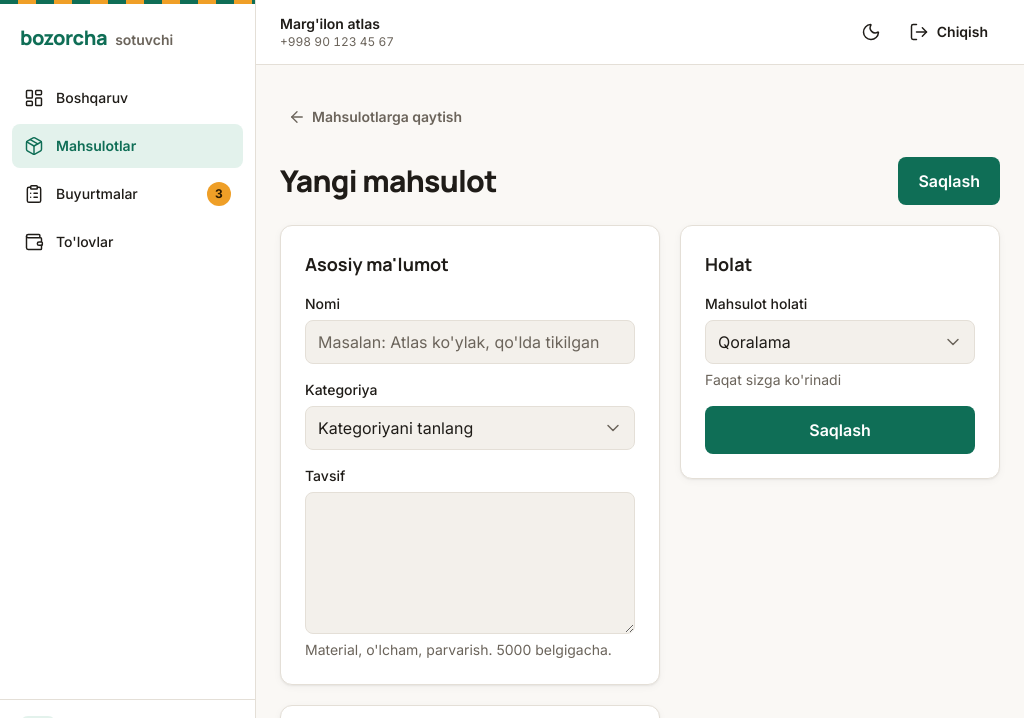
Test: ProductEditorPage: validation › shows field errors and sends nothing while the form is invalid
Expected: the heading "Yangi mahsulot" is shown, [280,163,497,199]
Click the button "Saqlash" in the row of "Yangi mahsulot" at [949, 181], box [898,157,1000,205]
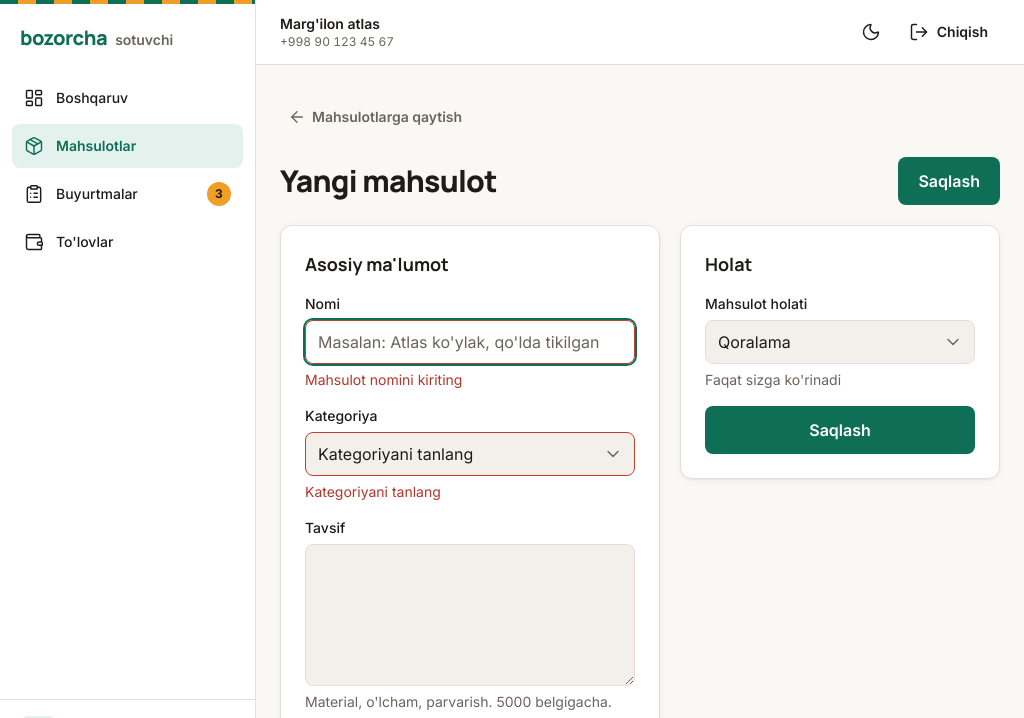
Expected: the text "Mahsulot nomini kiriting" is shown, [305,371,462,388]
Expected: the text "Kategoriyani tanlang" is shown, [305,483,441,500]
Type "Choynak" into the field labelled "Nomi" at [470, 342], box [305,320,635,364]
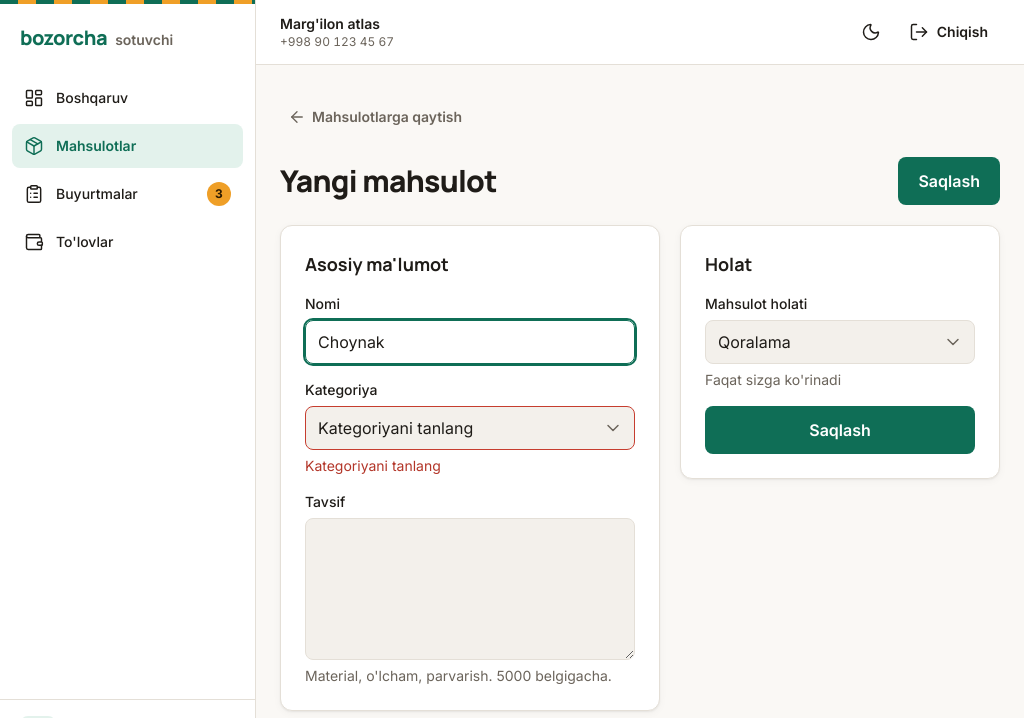
Select "Ayollar kiyimi" in the dropdown labelled "Kategoriya" at [470, 428], box [305,406,635,450]
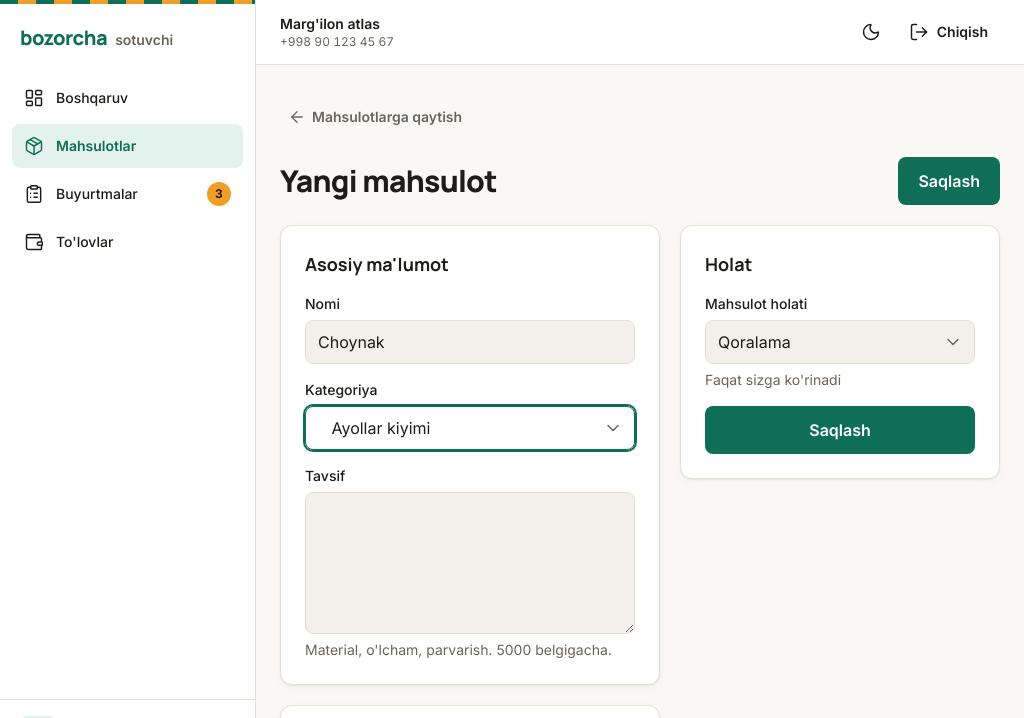
Click the button "Saqlash" in the row of "Yangi mahsulot" at [949, 181], box [898,157,1000,205]
(page scrolled)
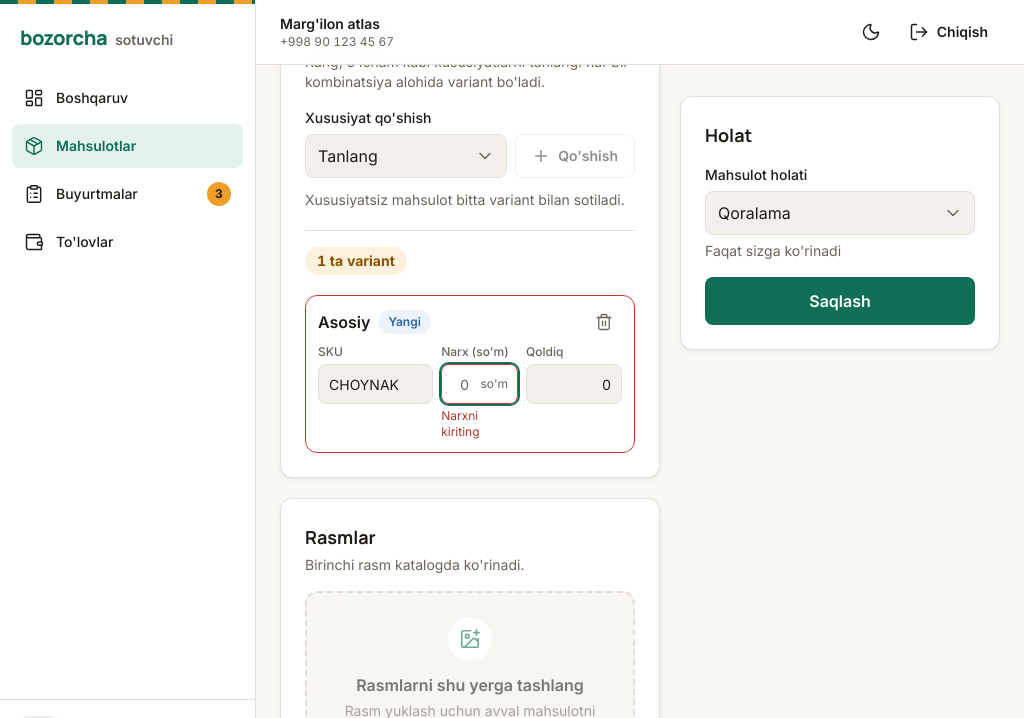
Expected: the text "Narxni kiriting" is shown, [441,408,480,439]
Type "12,345" into the field named "Narx, so'm: Asosiy" at [480, 384], box [441,364,518,404]
(page scrolled)
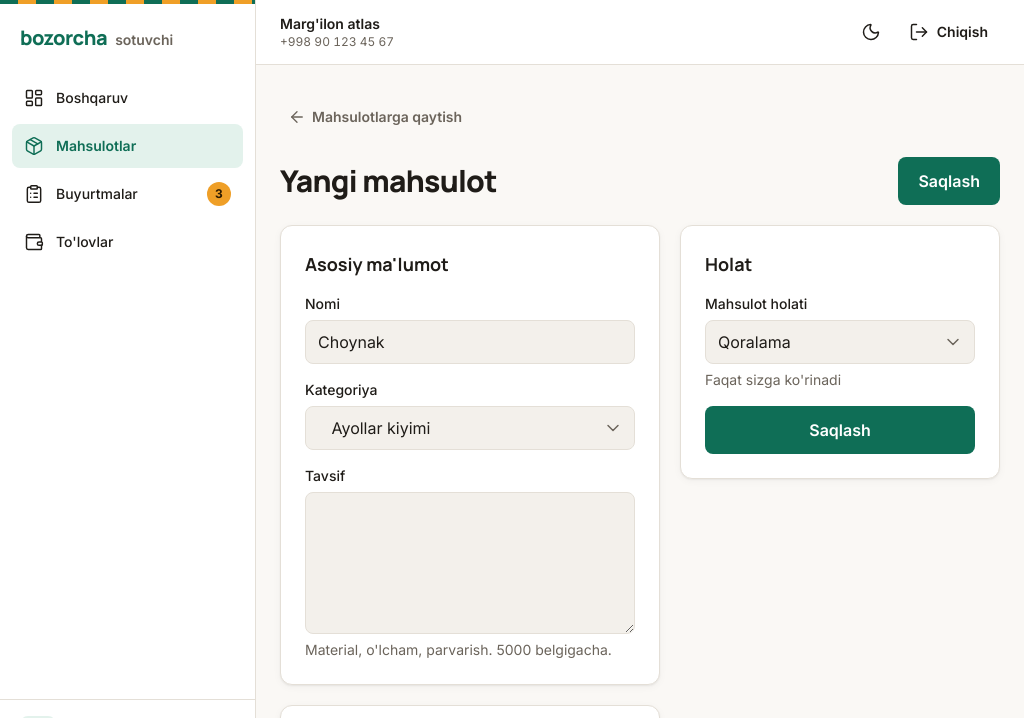
Click the button "Saqlash" in the row of "Yangi mahsulot" at [949, 181], box [898,157,1000,205]
(page scrolled)
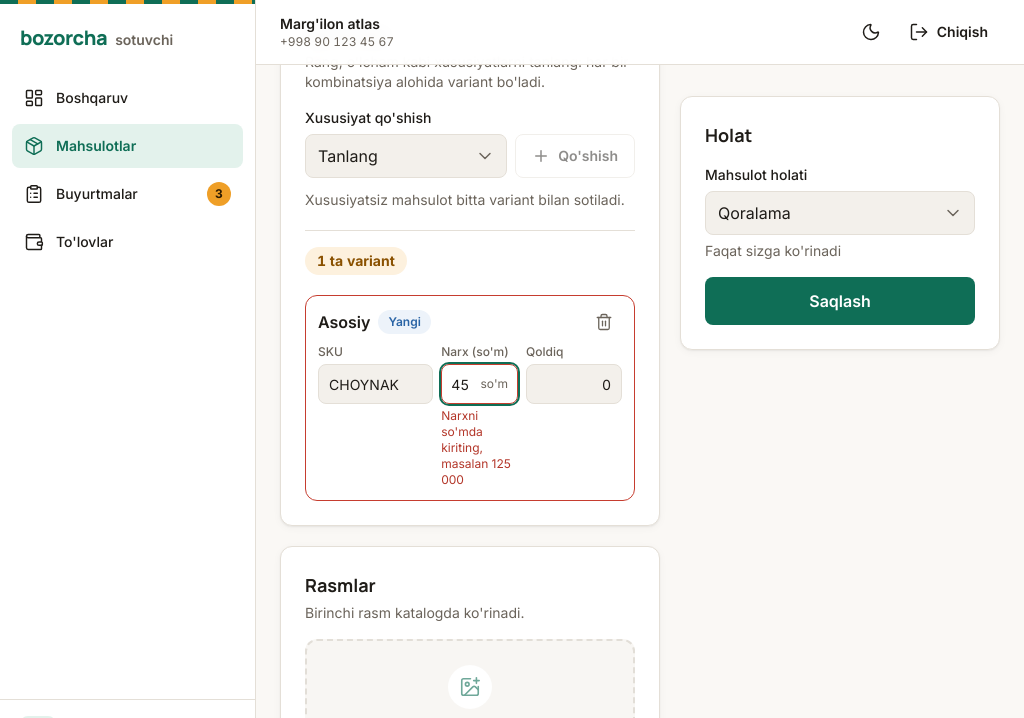
Expected: the text "Narxni so'mda kiriting, masalan 125 000" is shown, [441,408,518,488]
